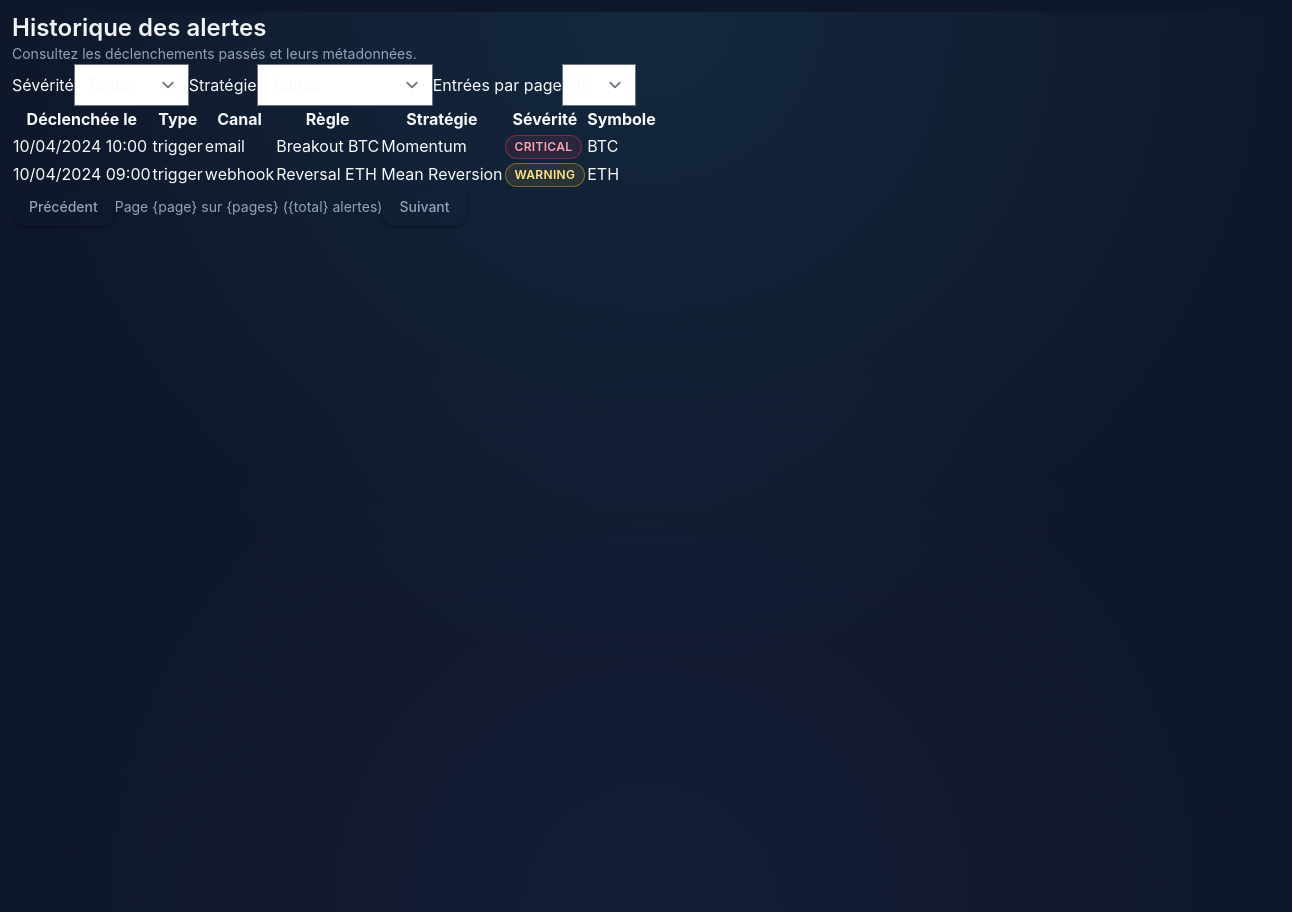
Scenario: AlertHistory › affiche les entrées d'historique et gère la pagination
This screenshot has width=1292, height=912.
Expected: the text "Breakout BTC" is shown, [275,132,380,160]
Expected: the button "Précédent" is disabled, [12,188,115,226]
Click the button "Suivant" at (424, 207), box [382,188,466,226]
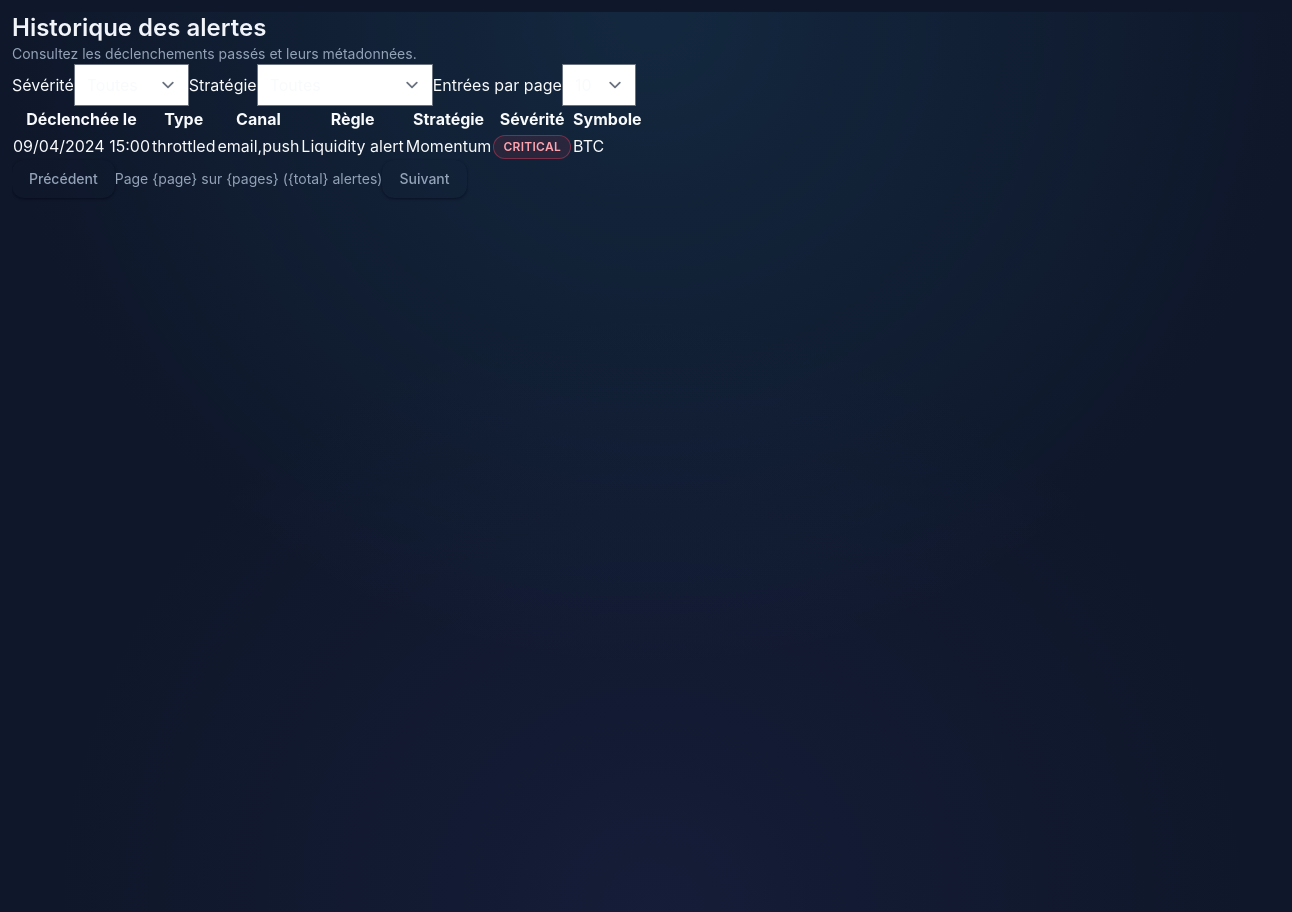
Now the text "Liquidity alert" is shown, box [300,132,405,160]
